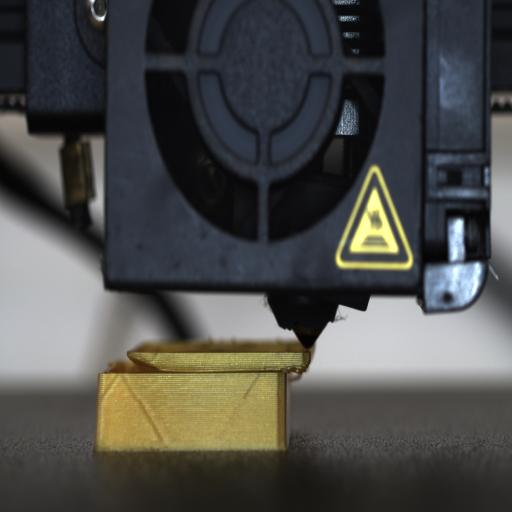layer_shift: (99, 359, 314, 382)
